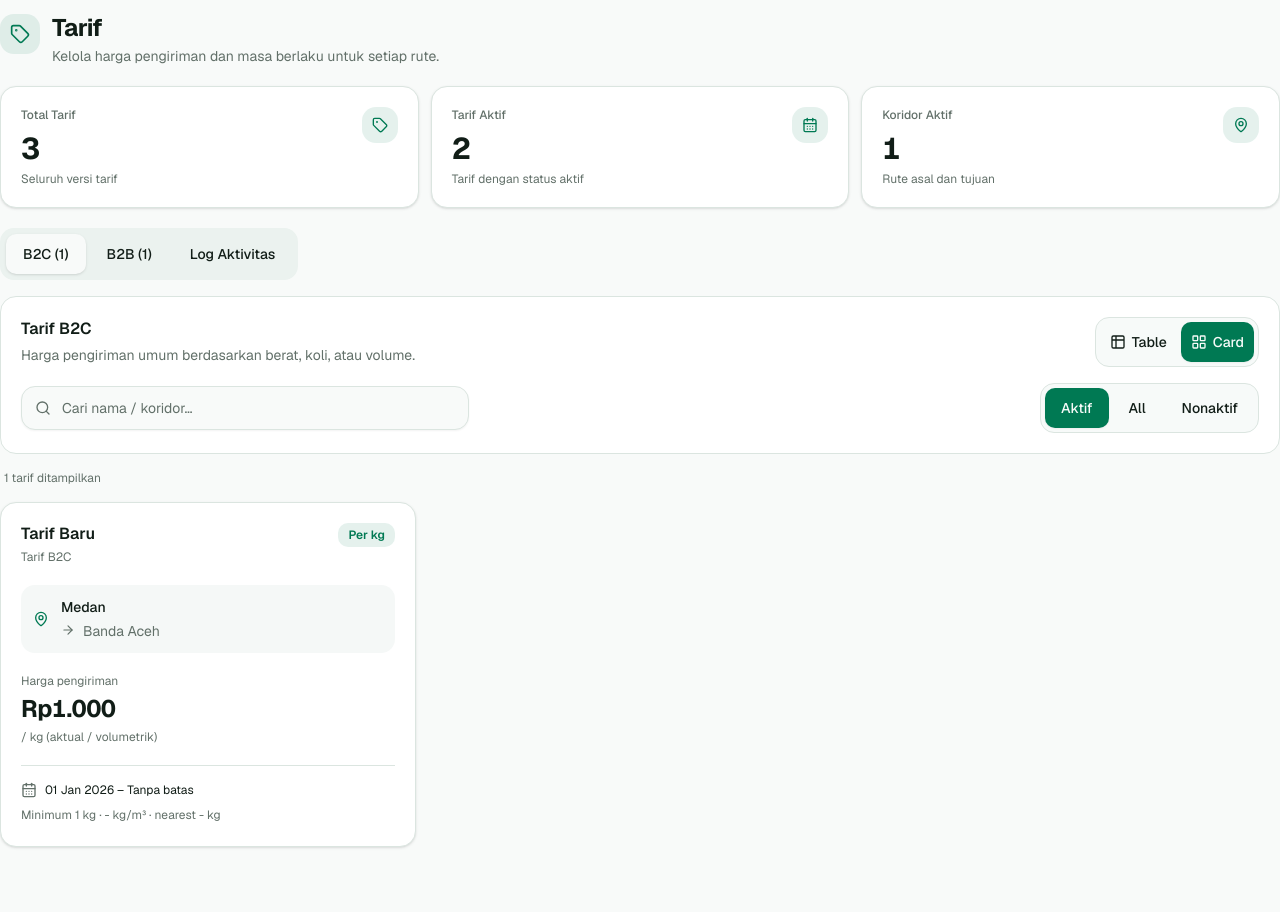
keeps the table choice across B2C and B2B tabs and displays business pricing
The image size is (1280, 912).
expect the element "Tarif Baru" is shown: met, box [0, 502, 416, 846]
Click the button "Table": click(1138, 342) [1100, 322, 1177, 362]
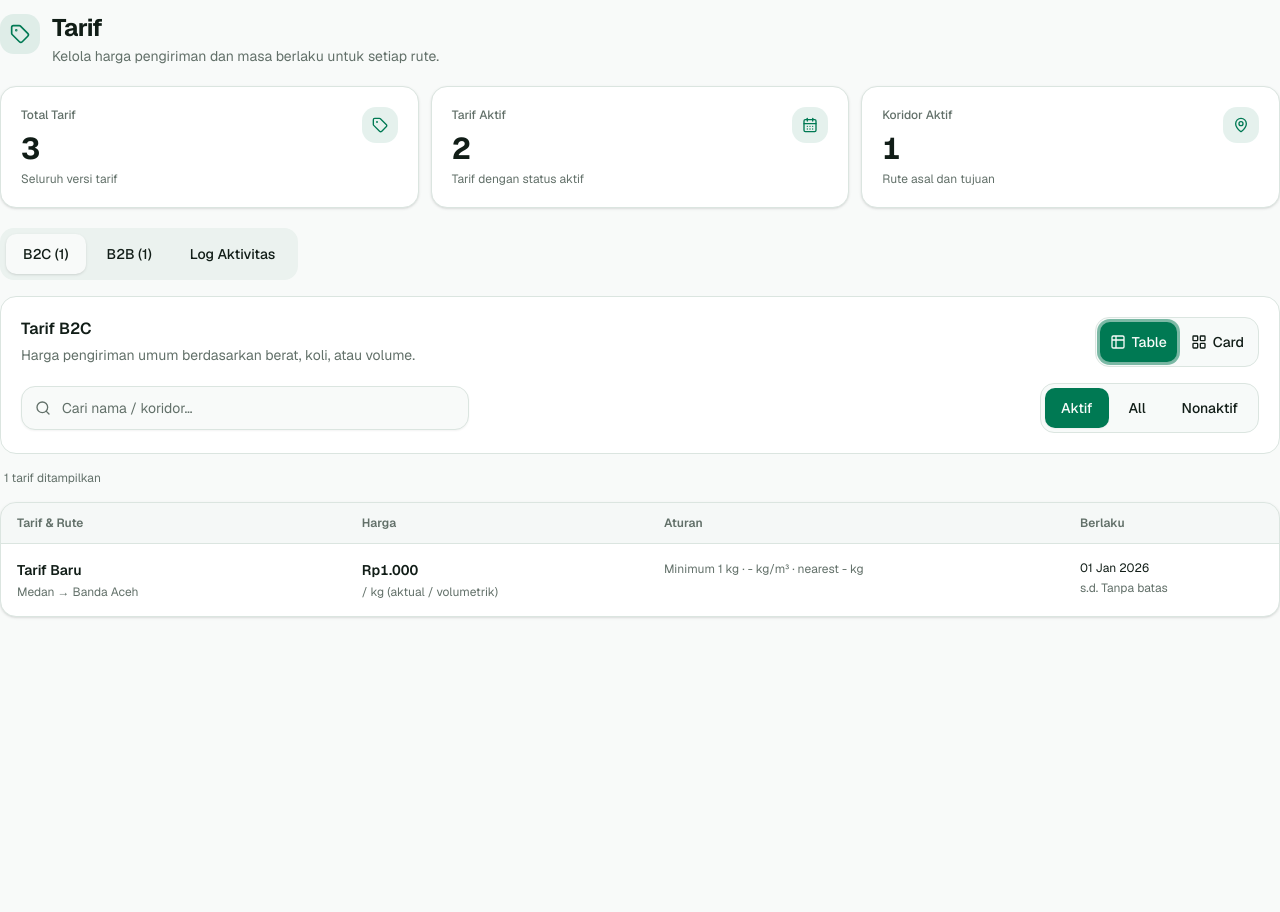
Click the tab "B2B (1)": click(129, 254) [90, 234, 169, 274]
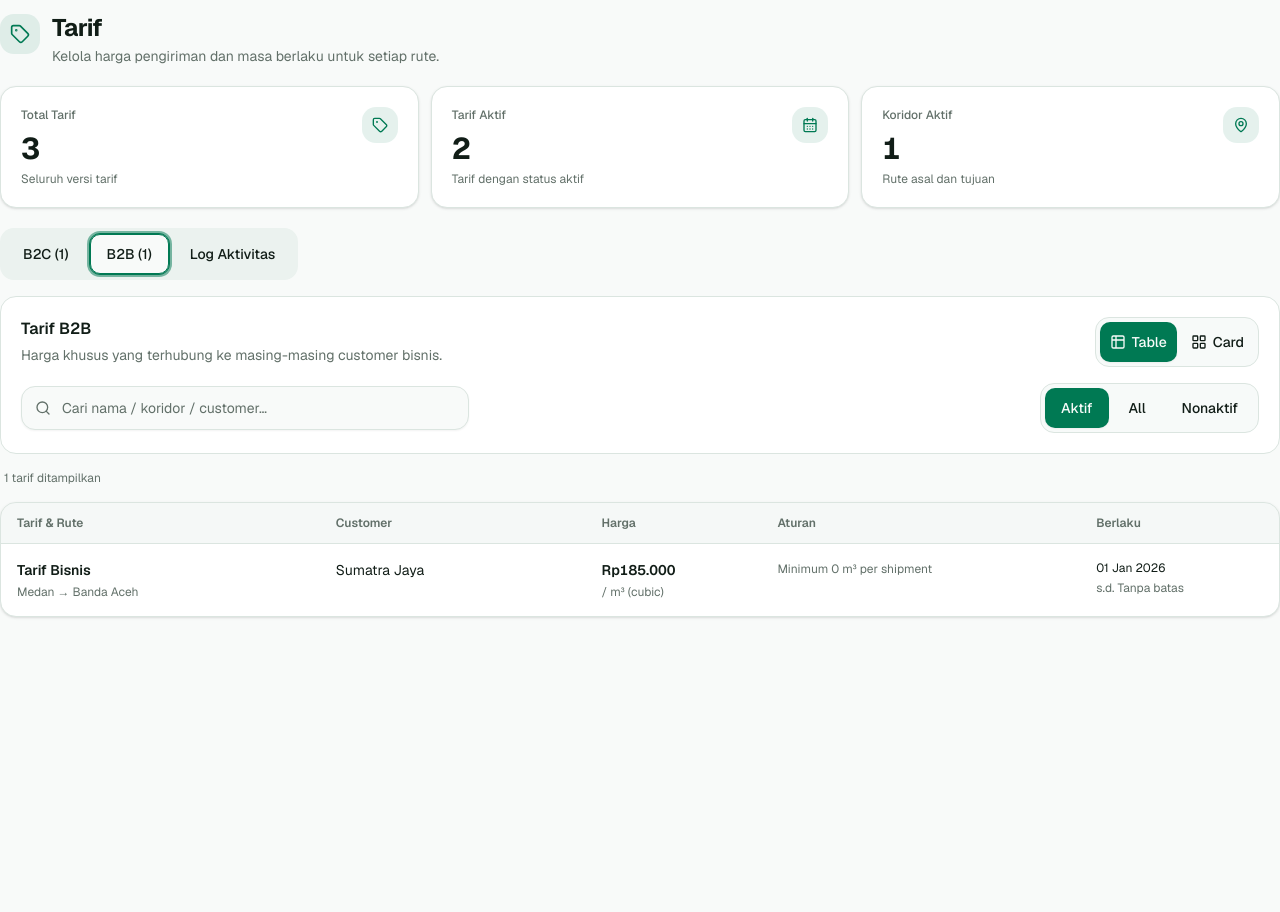
expect the column heading "Customer" is shown: met, box [320, 503, 586, 544]
expect the text "Sumatra Jaya" is shown: met, box [320, 544, 586, 616]
expect the text "Rp185.000" is shown: met, box [602, 561, 675, 579]
